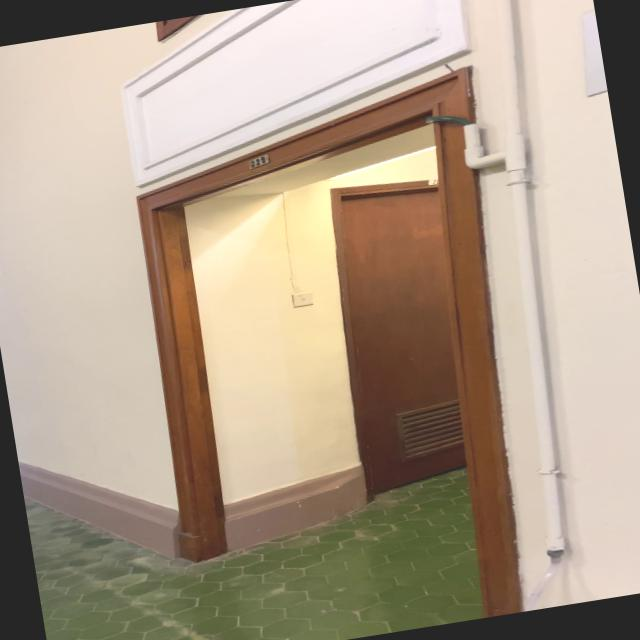room229: (246, 153, 272, 172)
